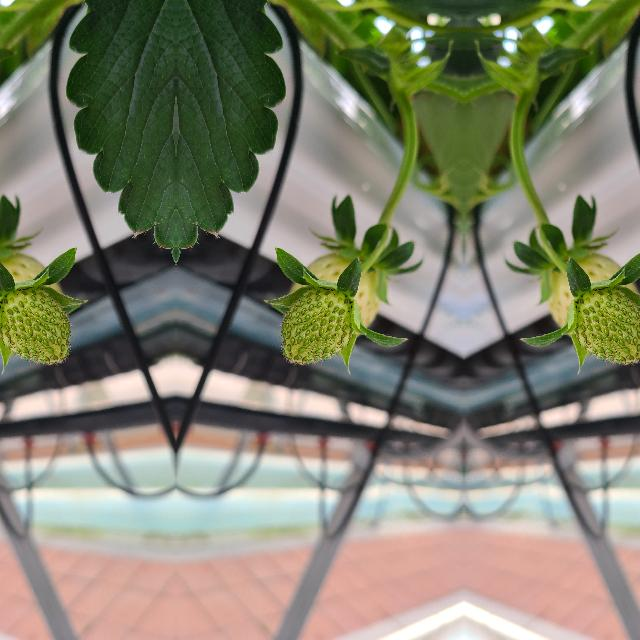Health_25: (280, 287, 352, 363), (0, 287, 70, 363), (574, 287, 640, 363)
